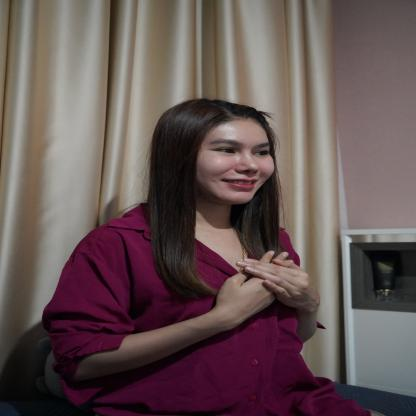Grieve: (173, 246, 333, 336)
